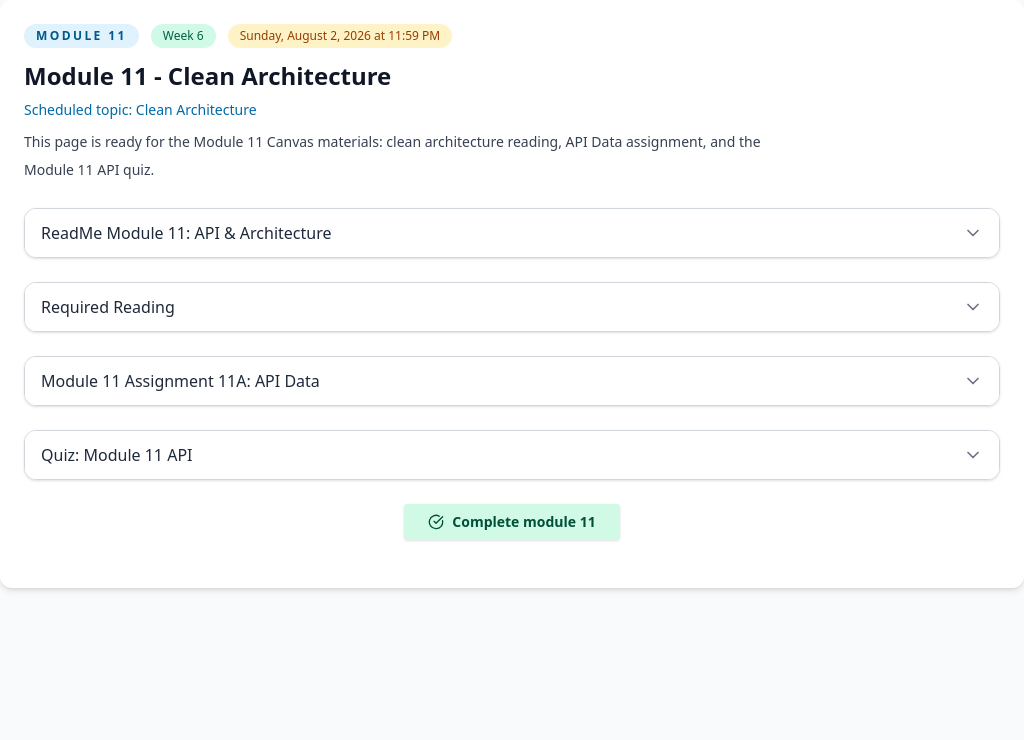
Test case: <AssignmentMod11 /> › renders the API and Architecture ReadMe content
Click the button "ReadMe Module 11: API & Architecture": (186, 233) [25,209,999,257]
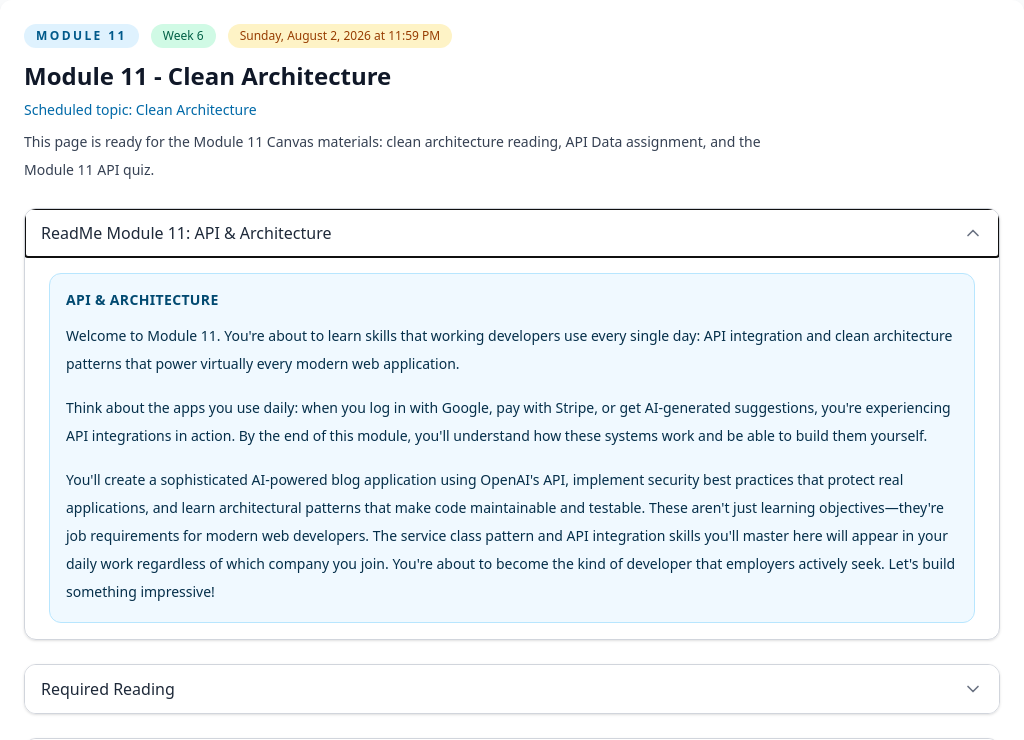
Check: the heading "API & Architecture" is shown, box [66,290,219,309]
Check: the text "API integration and clean architecture patterns that power virtually every modern web application" is shown, box [66,326,952,373]
Check: the text "AI-powered blog application using OpenAI's API" is shown, box [66,470,955,601]
